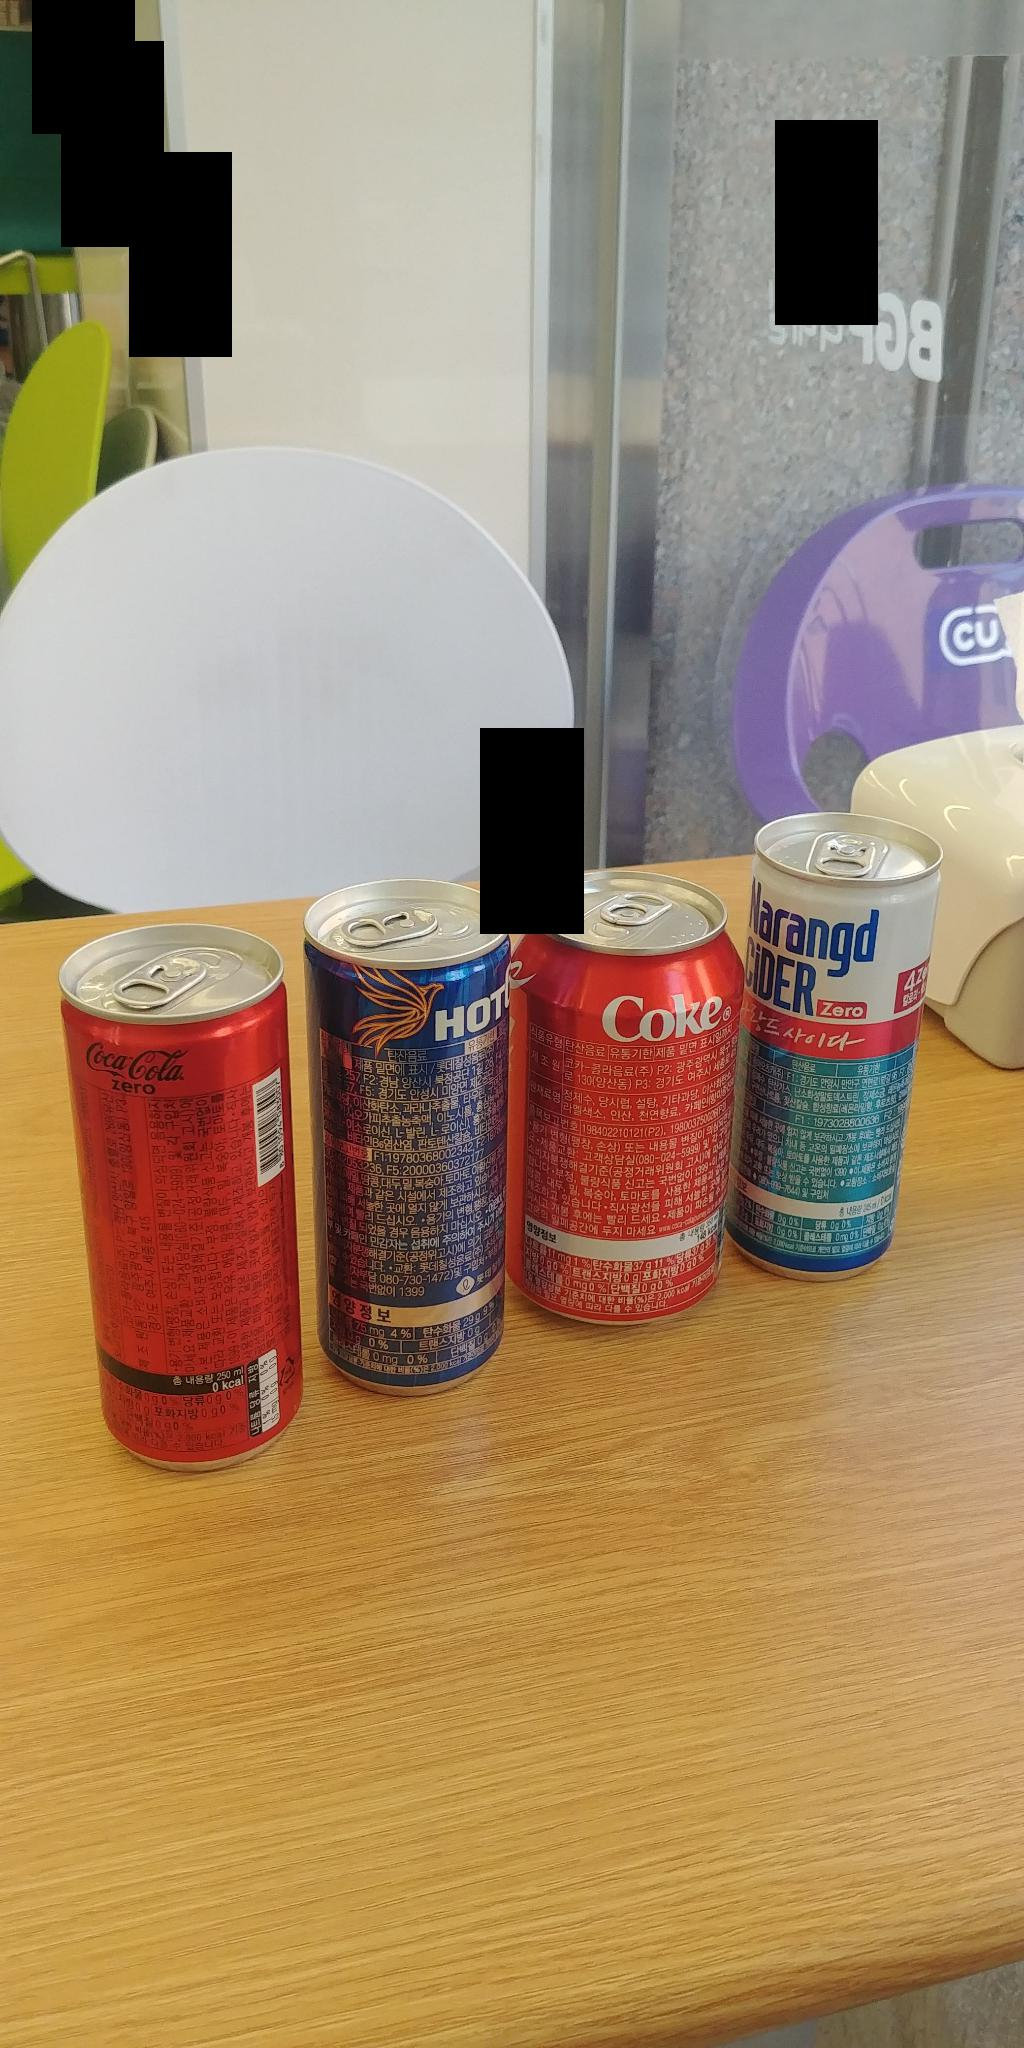cocacola: (515, 857, 764, 1334)
hotsix_org: (307, 886, 541, 1382)
narangdcider: (751, 806, 942, 1280)
